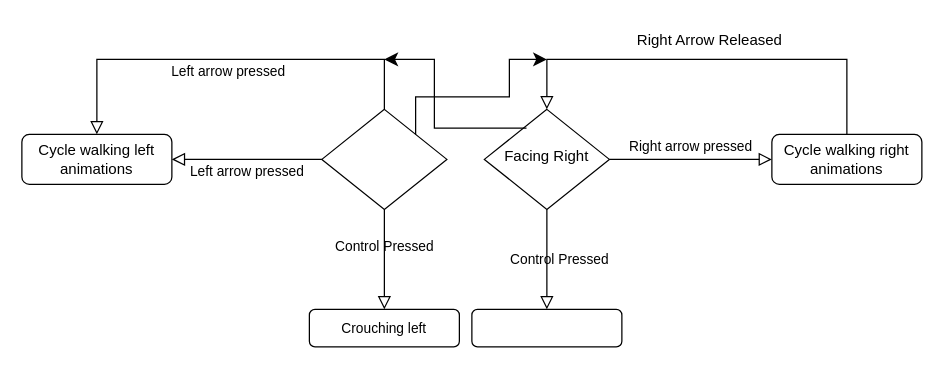
Some shapes in this 944 by 369 pixel diagram are drawn without their labels. Each missing label, with the centre of its shape:
Crouching Right: the point at 546,327
Facing Left: the point at 384,158
